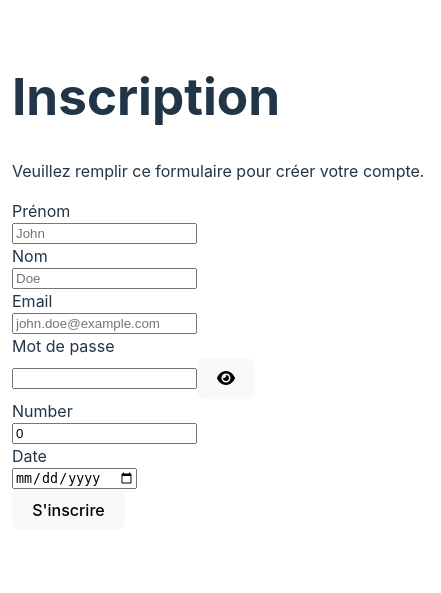
it: FormBuilder › should show validation error for password too short
Type "short" into the password field labelled "Mot de passe" at (104, 378), box left=12, top=368, right=197, bottom=389
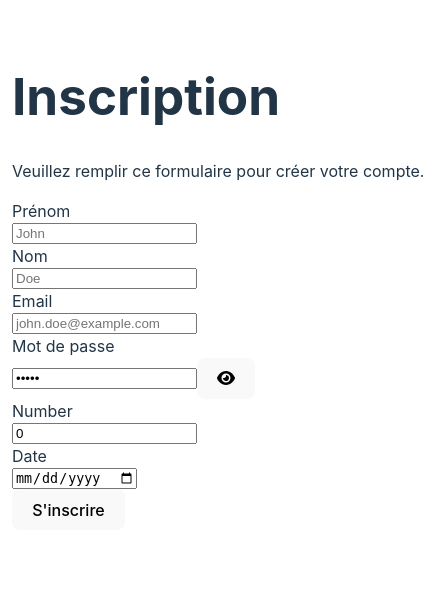
Click the button "S'inscrire" at (68, 510), box left=12, top=489, right=125, bottom=530
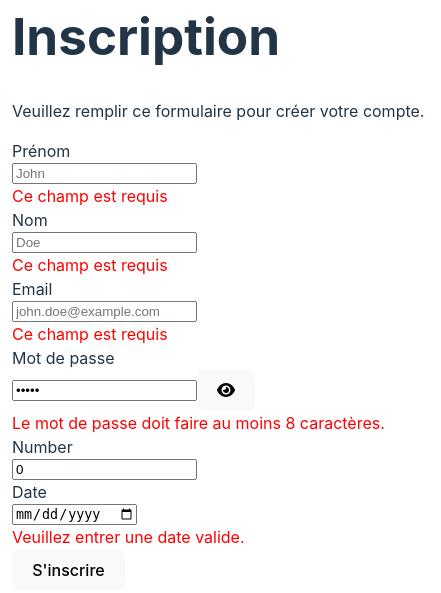
expect the text "Le mot de passe doit faire au moins 8 caractères." is shown: met, box left=12, top=411, right=424, bottom=435
